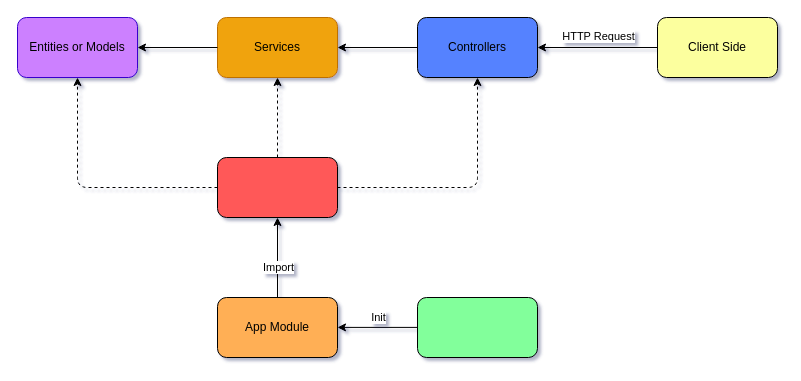
Image size: 801x381. Some labels were removed from this diagram. Here are the shapes that lost their labels. From the top down, the box of each, then its label:
(216, 156, 338, 218): Module
(416, 296, 538, 358): MAIN
